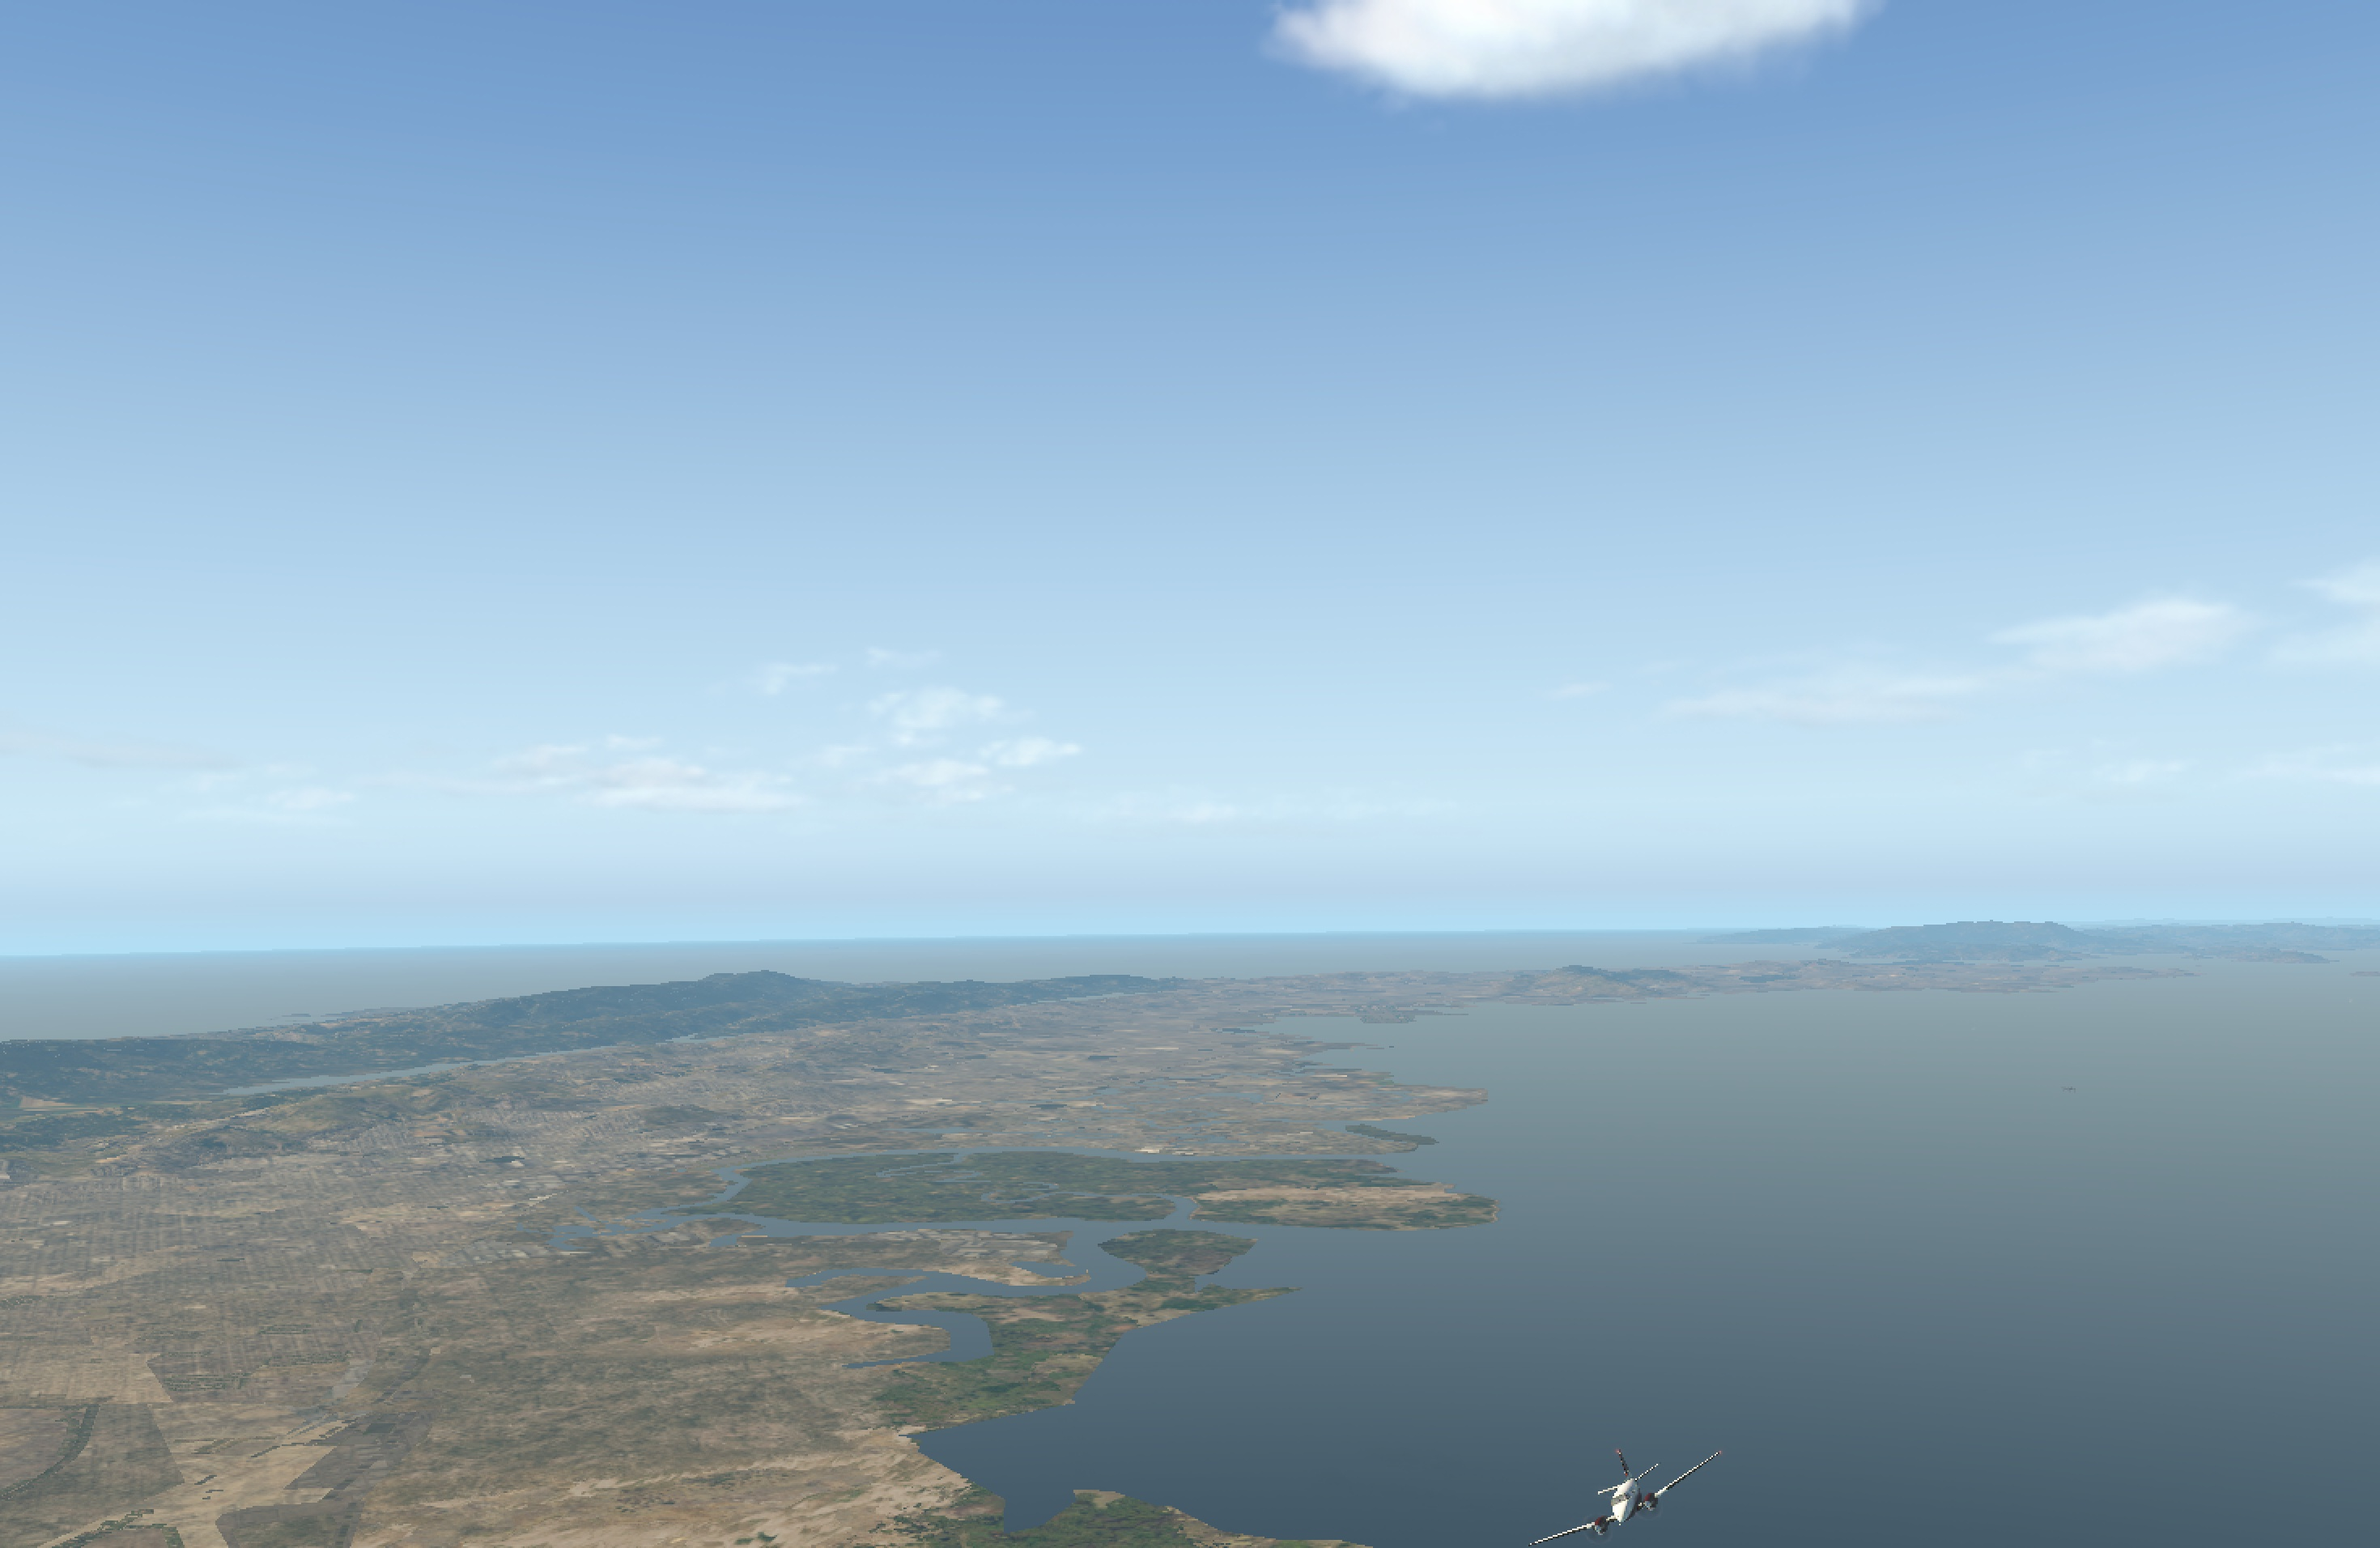aircraft: (1527, 1475, 1733, 1548)
